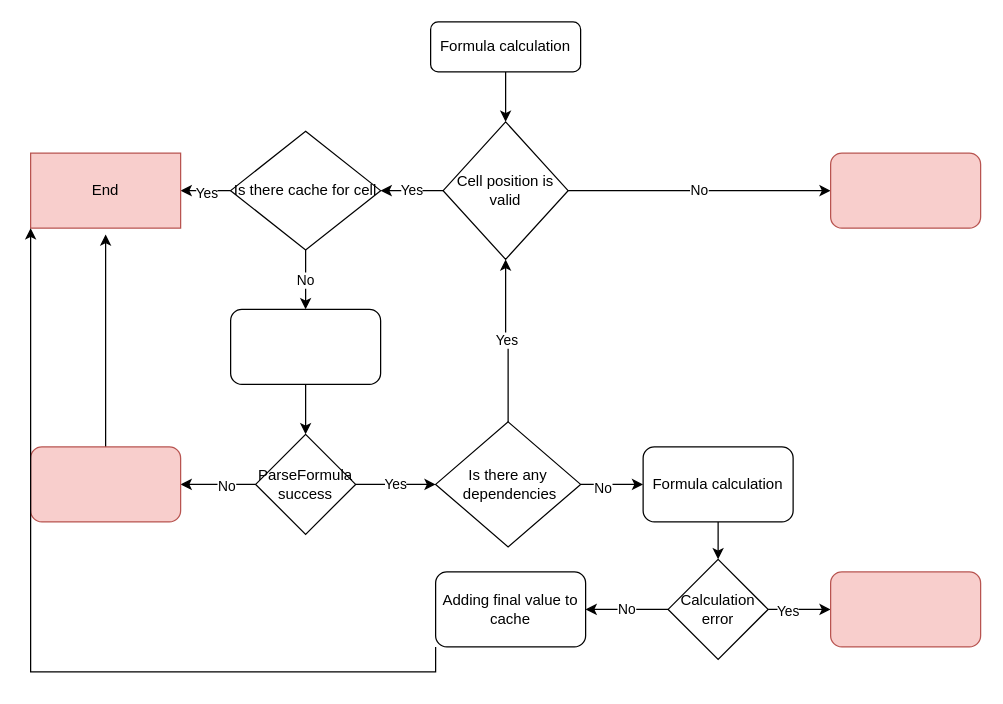
Image size: 1003x704. Some labels were removed from this diagram. The shapes that lost their labels are listed below. From the top down, each one's box as (x1, y1, x2, y2) in pixels, then its label:
(829, 152, 981, 228): InvalidPosition Exception
(229, 308, 381, 384): ParseFormulaAST
(29, 446, 181, 522): ParseFormula Expection
(829, 571, 981, 647): FormulaExpection
